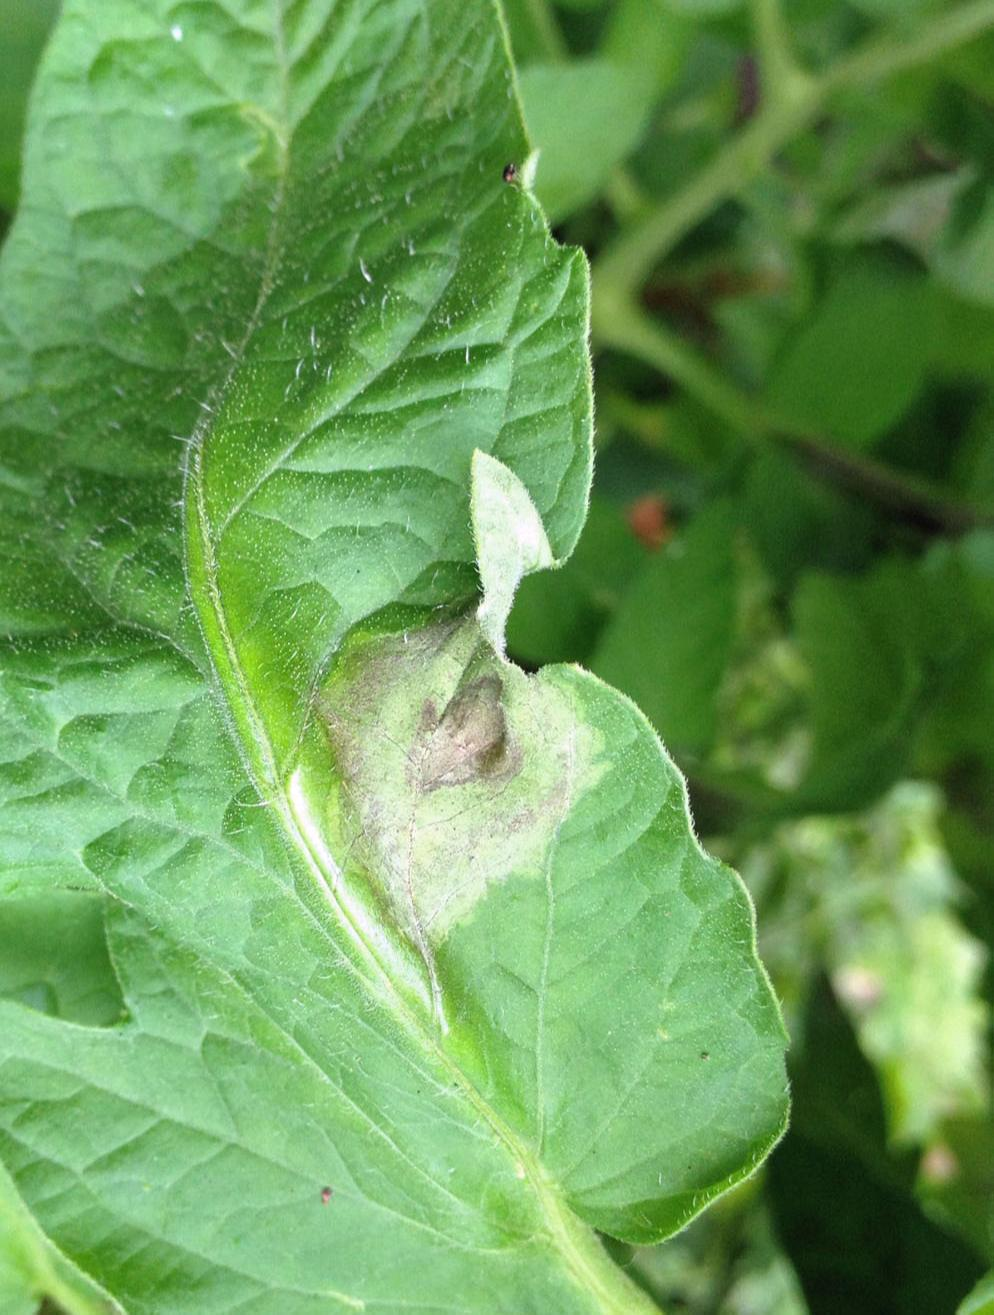Tomato leaf late blight: (0, 0, 824, 1315)
